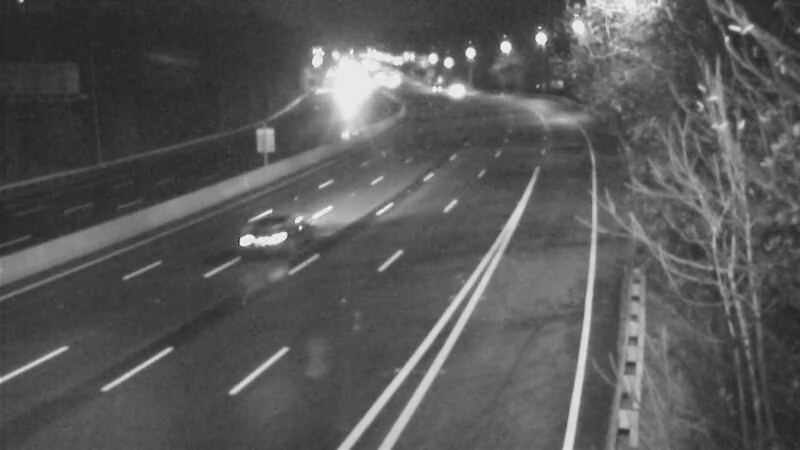vehicle: (201, 200, 281, 280), (414, 62, 464, 112), (437, 67, 487, 117)
